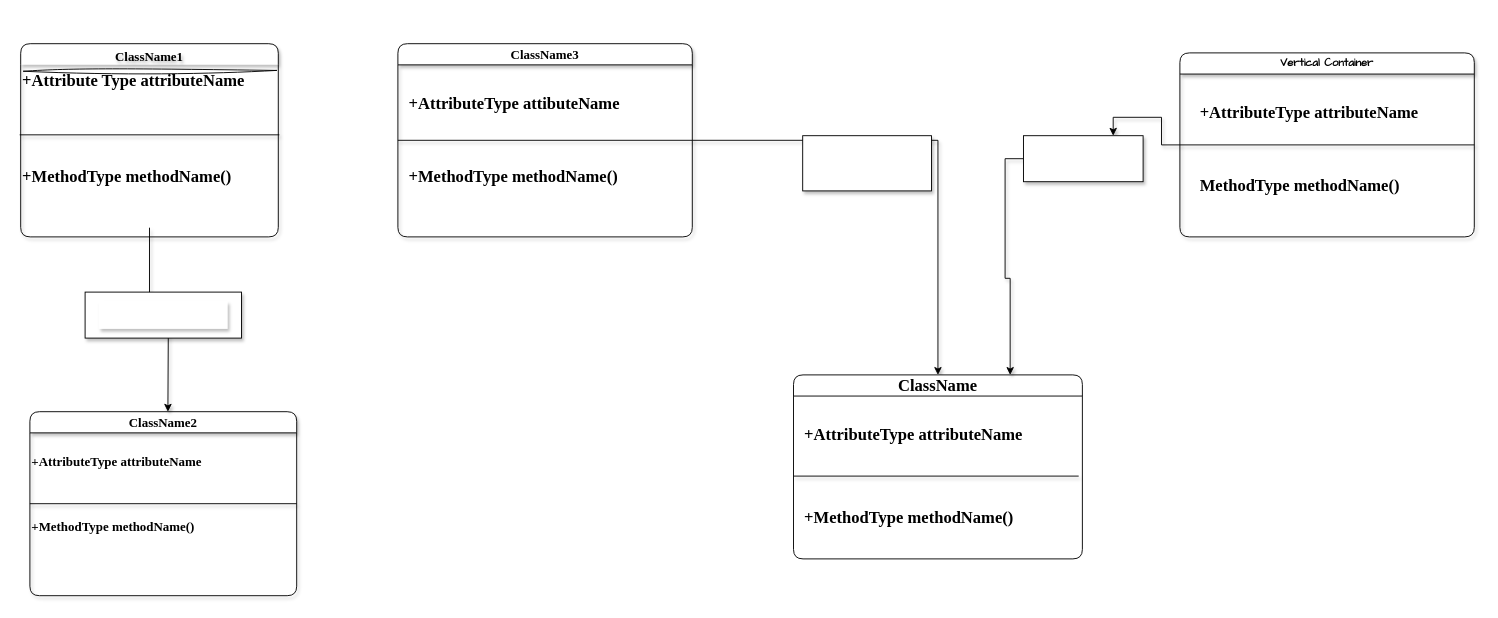
Image size: 1498x618. Some labels were removed from this diagram. Here are the shapes that lost their labels. From the top down, the centre of each, then its label:
At point 867,164: "Composition".
At point 1084,159: "Association".
At point 164,316: "inheritance".
